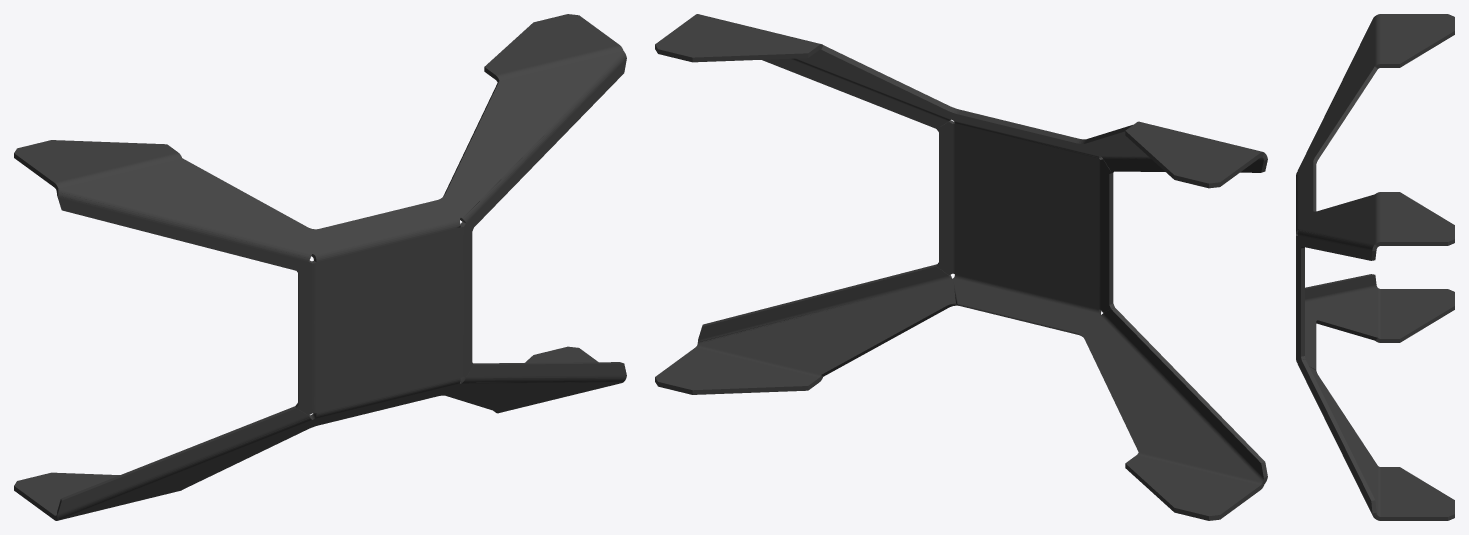
File: LidarMount.glb
3 renders of one model, left to right at view 1: azimuth 30°, elevation 25°; view 2: azimuth 150°, elevation 25°; view 3: azimuth 270°, elevation 25°, orthographic. The views are drawn at different scales.
Parts seen in each view (by area): view 1: LidarMount; view 2: LidarMount; view 3: LidarMount.
Part boxes in pixels (x1,y1,x2,y2): LidarMount: (14, 14, 626, 520); LidarMount: (655, 14, 1267, 520); LidarMount: (1296, 14, 1454, 520).
Size of the model in its own units: 0.3947 by 0.2236 by 0.1155.
1 material, 1 textured.
